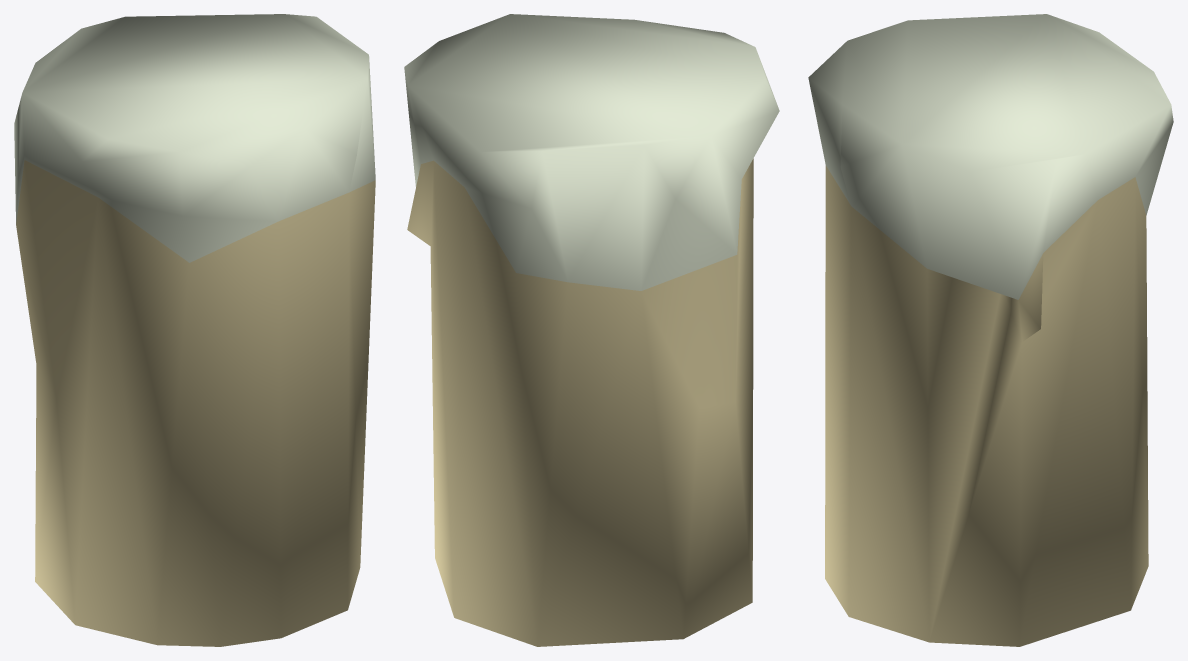
File: Lobby_Candle(3)_NoAnim_Texturized.fbx
3 renders of one model, left to right at view 1: azimuth 30°, elevation 25°; view 2: azimuth 150°, elevation 25°; view 3: azimuth 270°, elevation 25°, orthographic.
Parts seen in each view (by area): view 1: Cylinder.004; view 2: Cylinder.004; view 3: Cylinder.004.
Part boxes in pixels (x1,y1,x2,y2): Cylinder.004: (14,14,375,646); Cylinder.004: (404,14,779,646); Cylinder.004: (808,14,1173,646).
Bounding box in the file's own units: 17.47 × 25.75 × 17.22.
